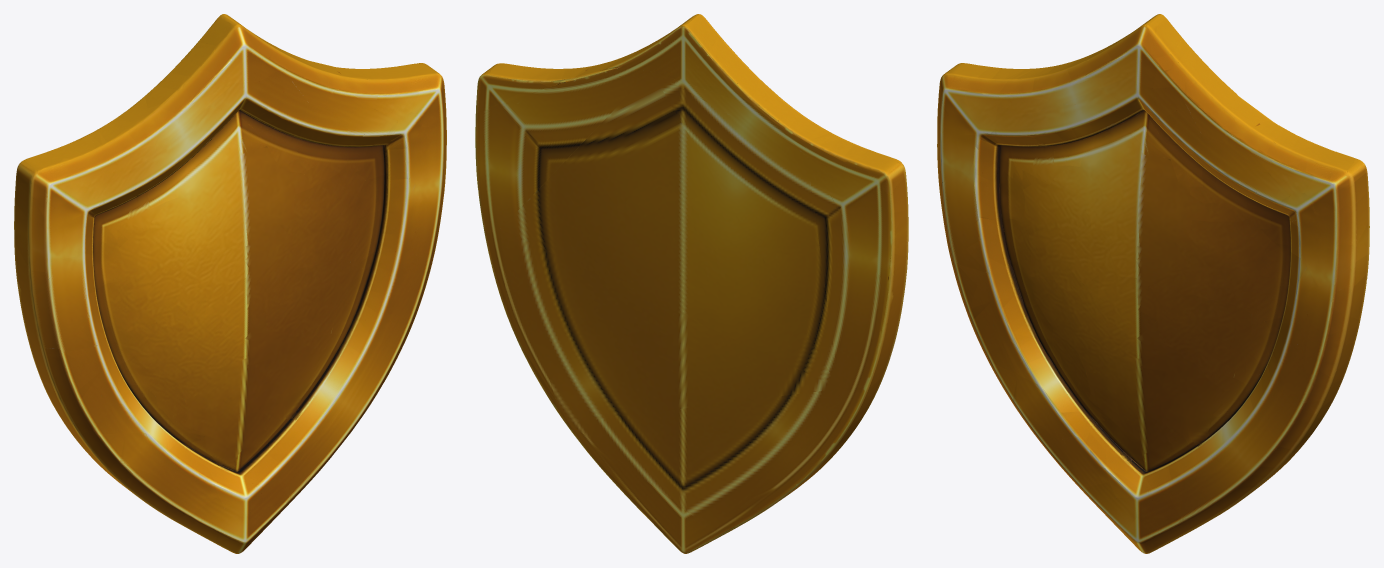
File: bonus-shield.glb
3 views of the same model, side by side, from view 1: azimuth 30°, elevation 25°; view 2: azimuth 150°, elevation 25°; view 3: azimuth 330°, elevation 25° (orthographic).
Parts seen in each view (by area): view 1: output_unwrapped; view 2: output_unwrapped; view 3: output_unwrapped.
Part boxes in pixels (x1=…): output_unwrapped: x1=14, y1=14, x2=446, y2=553; output_unwrapped: x1=475, y1=14, x2=908, y2=553; output_unwrapped: x1=937, y1=14, x2=1369, y2=553.
Bounding box in the file's own units: 1.57 × 1.9 × 0.1602.
1 material, 1 textured.
